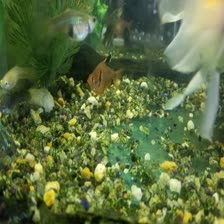Guppy: (33, 2, 109, 44), (0, 62, 39, 96)
Transparente: (84, 53, 124, 95)
